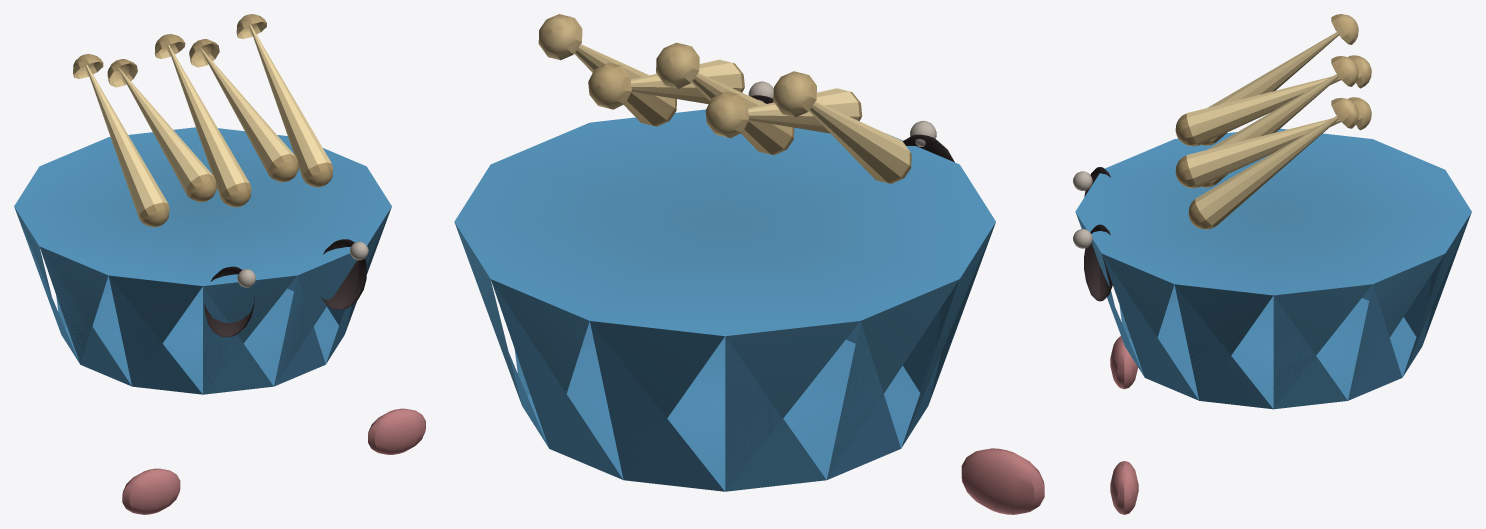
The picture shows the model from 3 angles, left to right: view 1: azimuth 30°, elevation 25°; view 2: azimuth 150°, elevation 25°; view 3: azimuth 270°, elevation 25°; orthographic projection. The views are drawn at different scales.
Visible parts, largest first — view 1: pet_pb2e558e0; view 2: pet_pb2e558e0; view 3: pet_pb2e558e0.
Boxes of the visible parts, x1,y1,x2,y2 form: pet_pb2e558e0: [14, 14, 425, 514]; pet_pb2e558e0: [454, 14, 1044, 514]; pet_pb2e558e0: [1073, 14, 1471, 514].
Size of the model in its own units: 0.32 by 0.3472 by 0.3219.
